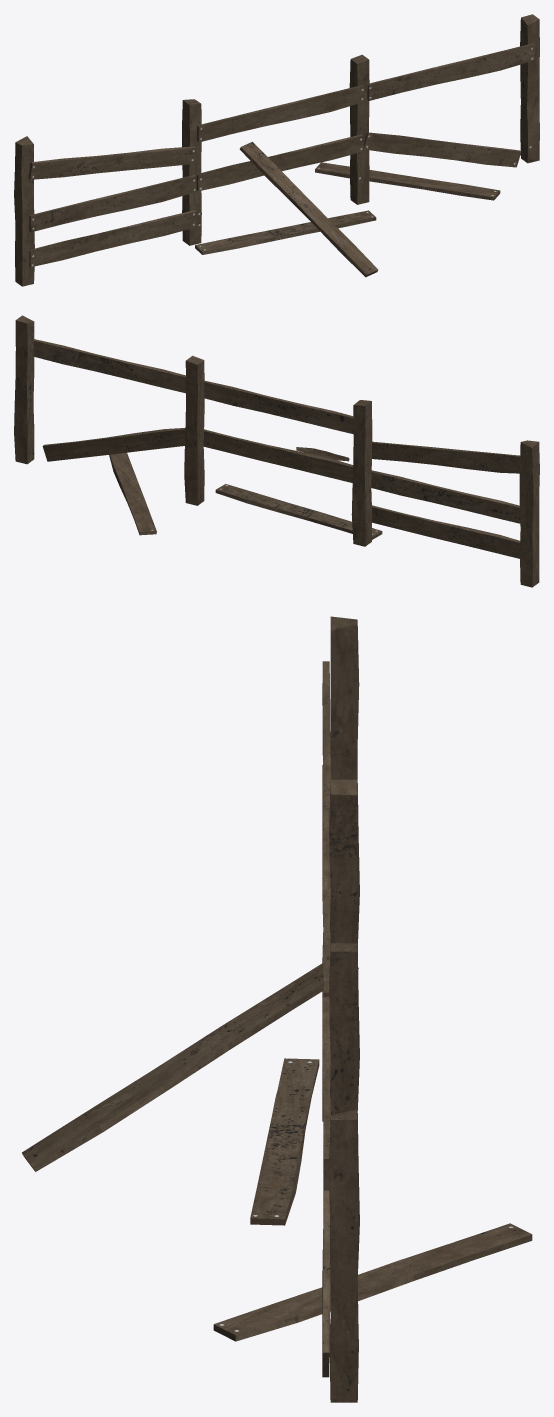
The model's file is wood_fence.fbx.
3 renders of one model, top to bottom at view 1: azimuth 30°, elevation 25°; view 2: azimuth 150°, elevation 25°; view 3: azimuth 270°, elevation 25°, orthographic. The views are drawn at different scales.
Parts seen in each view (by area): view 1: nail_plank.003, nail_plank.001, nail_plank.005, nail_plank.004, nail_plank, nail_plank.006, plank, nail_plank.002, vertical_plank.003, vertical_plank.002, vertical_plank, vertical_plank.001 (+2 smaller); view 2: vertical_plank.002, vertical_plank, vertical_plank.003, nail_plank.001, vertical_plank.001, nail_plank.003, nail_plank.005, nail_plank.002, nail_plank.004, nail_plank, nail_plank.006, plank_ground (+1 smaller); view 3: plank, vertical_plank.003, plank_ground.001, plank_ground, vertical_plank, vertical_plank.001, vertical_plank.002, nail_plank.006, nail_plank.001, nail_plank, nail_plank.003.
Boxes of the visible parts, bbox=[...] form: nail_plank.003: bbox=[197, 85, 364, 142]; nail_plank.001: bbox=[367, 43, 534, 100]; nail_plank.005: bbox=[29, 175, 196, 232]; nail_plank.004: bbox=[29, 210, 196, 267]; nail_plank: bbox=[28, 146, 196, 179]; nail_plank.006: bbox=[364, 132, 521, 167]; plank: bbox=[239, 141, 378, 277]; nail_plank.002: bbox=[196, 134, 363, 191]; vertical_plank.003: bbox=[520, 14, 539, 163]; vertical_plank.002: bbox=[14, 136, 34, 286]; vertical_plank: bbox=[349, 54, 369, 204]; vertical_plank.001: bbox=[182, 99, 201, 245]; vertical_plank.002: bbox=[519, 440, 539, 587]; vertical_plank: bbox=[184, 355, 204, 505]; vertical_plank.003: bbox=[14, 315, 34, 464]; nail_plank.001: bbox=[34, 339, 185, 393]; vertical_plank.001: bbox=[351, 400, 372, 546]; nail_plank.003: bbox=[204, 381, 353, 434]; nail_plank.005: bbox=[371, 470, 520, 523]; nail_plank.002: bbox=[203, 429, 353, 482]; nail_plank.004: bbox=[372, 505, 520, 558]; nail_plank: bbox=[372, 441, 520, 473]; nail_plank.006: bbox=[42, 428, 185, 461]; plank_ground: bbox=[215, 484, 382, 539]; plank: bbox=[22, 963, 358, 1171]; vertical_plank.003: bbox=[328, 1109, 359, 1402]; plank_ground.001: bbox=[213, 1223, 532, 1341]; plank_ground: bbox=[250, 1058, 319, 1225]; vertical_plank: bbox=[329, 943, 359, 1114]; vertical_plank.001: bbox=[329, 779, 359, 946]; vertical_plank.002: bbox=[330, 616, 359, 779]; nail_plank.006: bbox=[322, 1098, 330, 1377]; nail_plank.001: bbox=[322, 997, 330, 1190]; nail_plank: bbox=[322, 661, 330, 830]; nail_plank.003: bbox=[322, 830, 330, 996].
Bounding box in the file's own units: 311 × 82.17 × 132.
